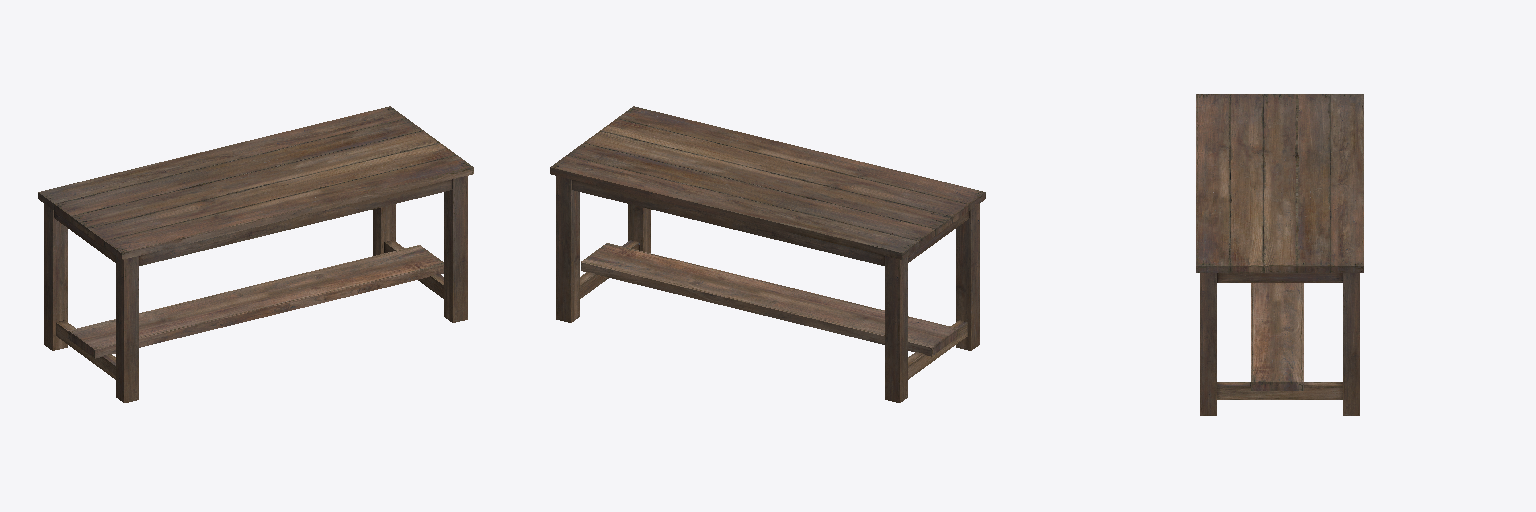
The picture shows the model from 3 angles: view 1: azimuth 30°, elevation 25°; view 2: azimuth 150°, elevation 25°; view 3: azimuth 270°, elevation 25°; orthographic projection.
Visible parts, largest first — view 1: COM_Deco_OutdecoB_WoodTable01_SM01; view 2: COM_Deco_OutdecoB_WoodTable01_SM01; view 3: COM_Deco_OutdecoB_WoodTable01_SM01.
Boxes of the visible parts, box(x1,y1,x2,y2) form: COM_Deco_OutdecoB_WoodTable01_SM01: box(38, 106, 473, 402); COM_Deco_OutdecoB_WoodTable01_SM01: box(550, 106, 985, 402); COM_Deco_OutdecoB_WoodTable01_SM01: box(1196, 94, 1363, 415).
Size of the model in its own units: 1.4 by 0.5784 by 0.5749.
Materials: 1 (1 with a texture image).